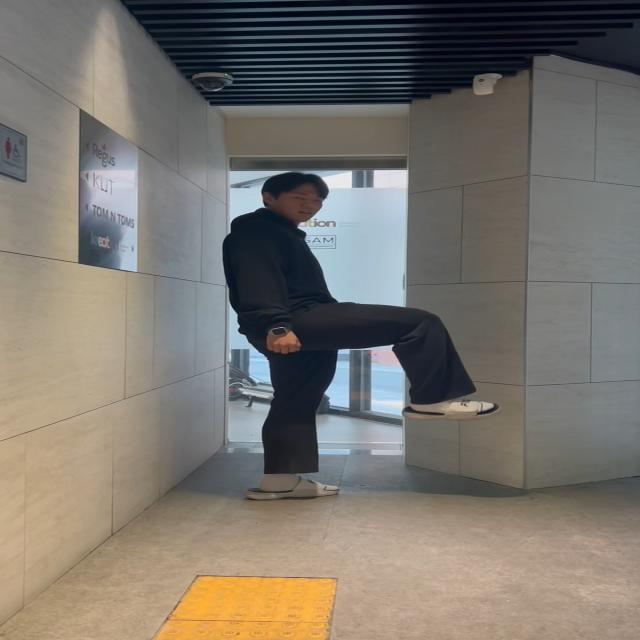knee: (265, 289, 497, 423)
